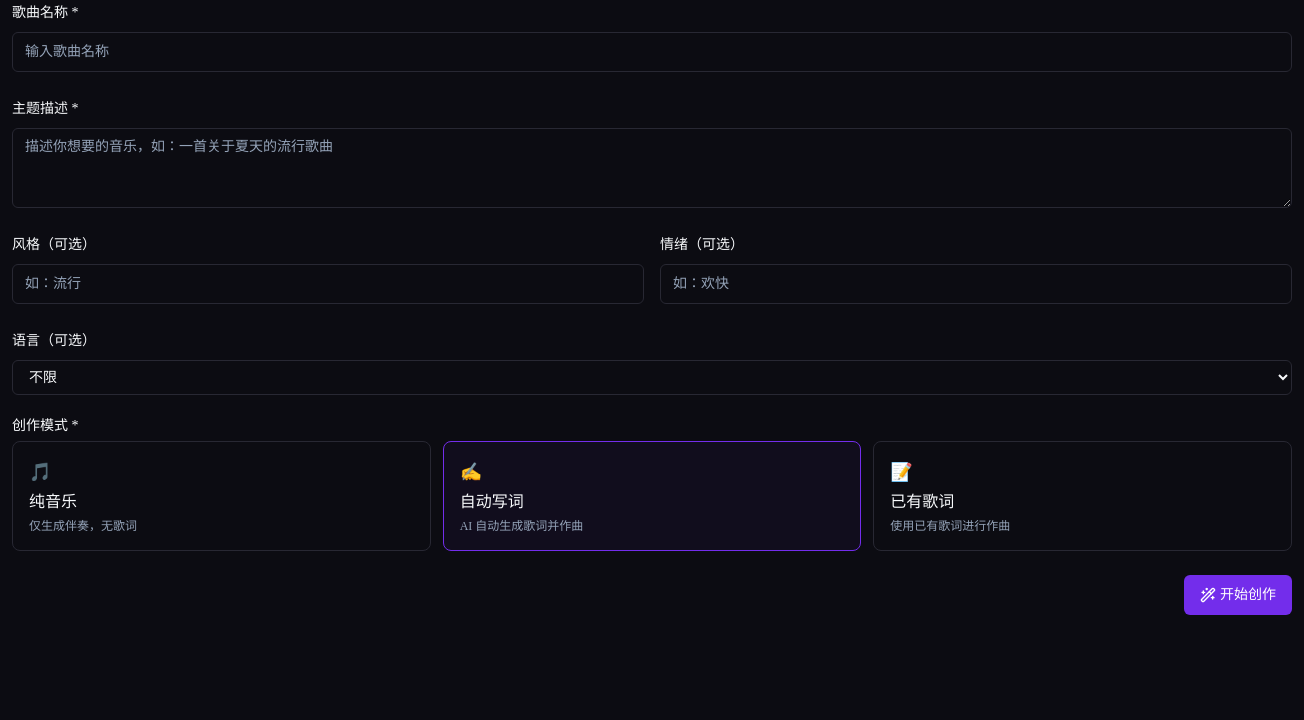
Scenario: SongCreateForm › shows server error on failed submission
The width and height of the screenshot is (1304, 720).
Type "测试歌曲" into the field labelled "歌曲名称 *" at (652, 52), box [12, 32, 1292, 72]
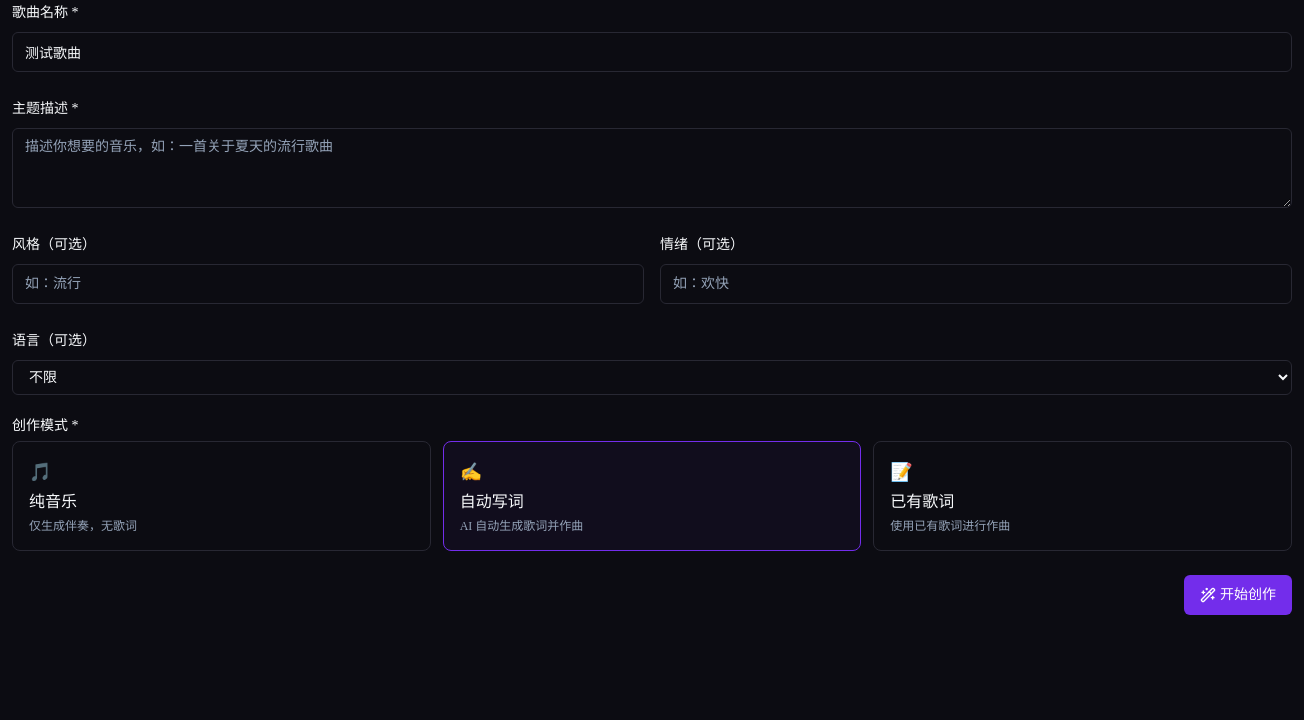
Type "一首测试歌曲" into the text box labelled "主题描述 *" at (652, 168), box [12, 128, 1292, 208]
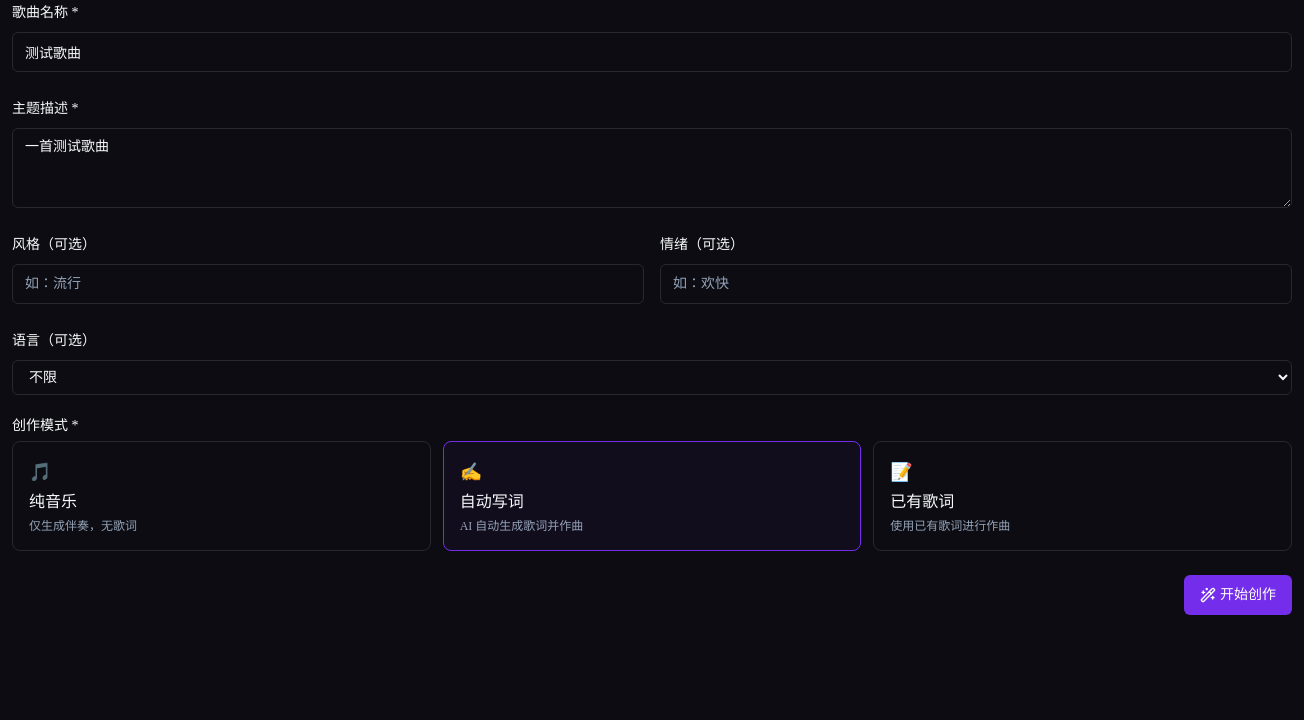
Click the button "开始创作" at (1238, 595), box [1184, 575, 1292, 615]
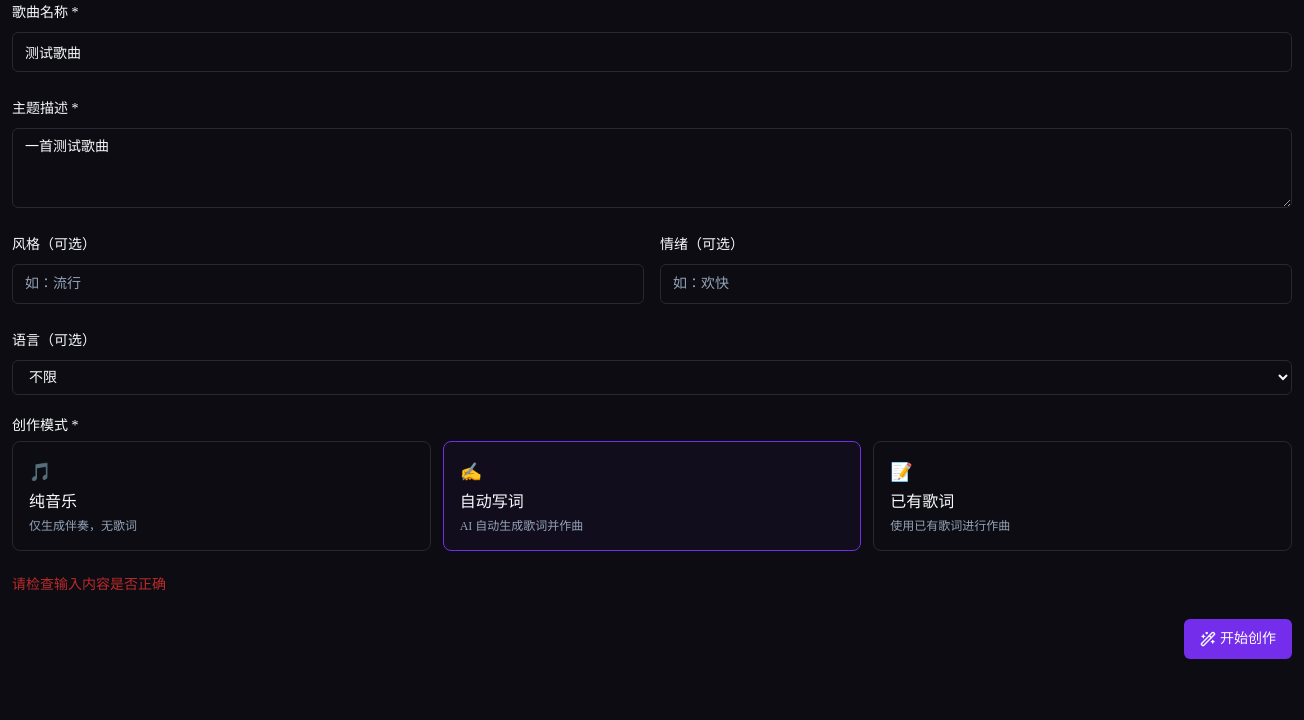
Expected: the text "请检查输入内容是否正确" is shown, [12, 577, 166, 592]
